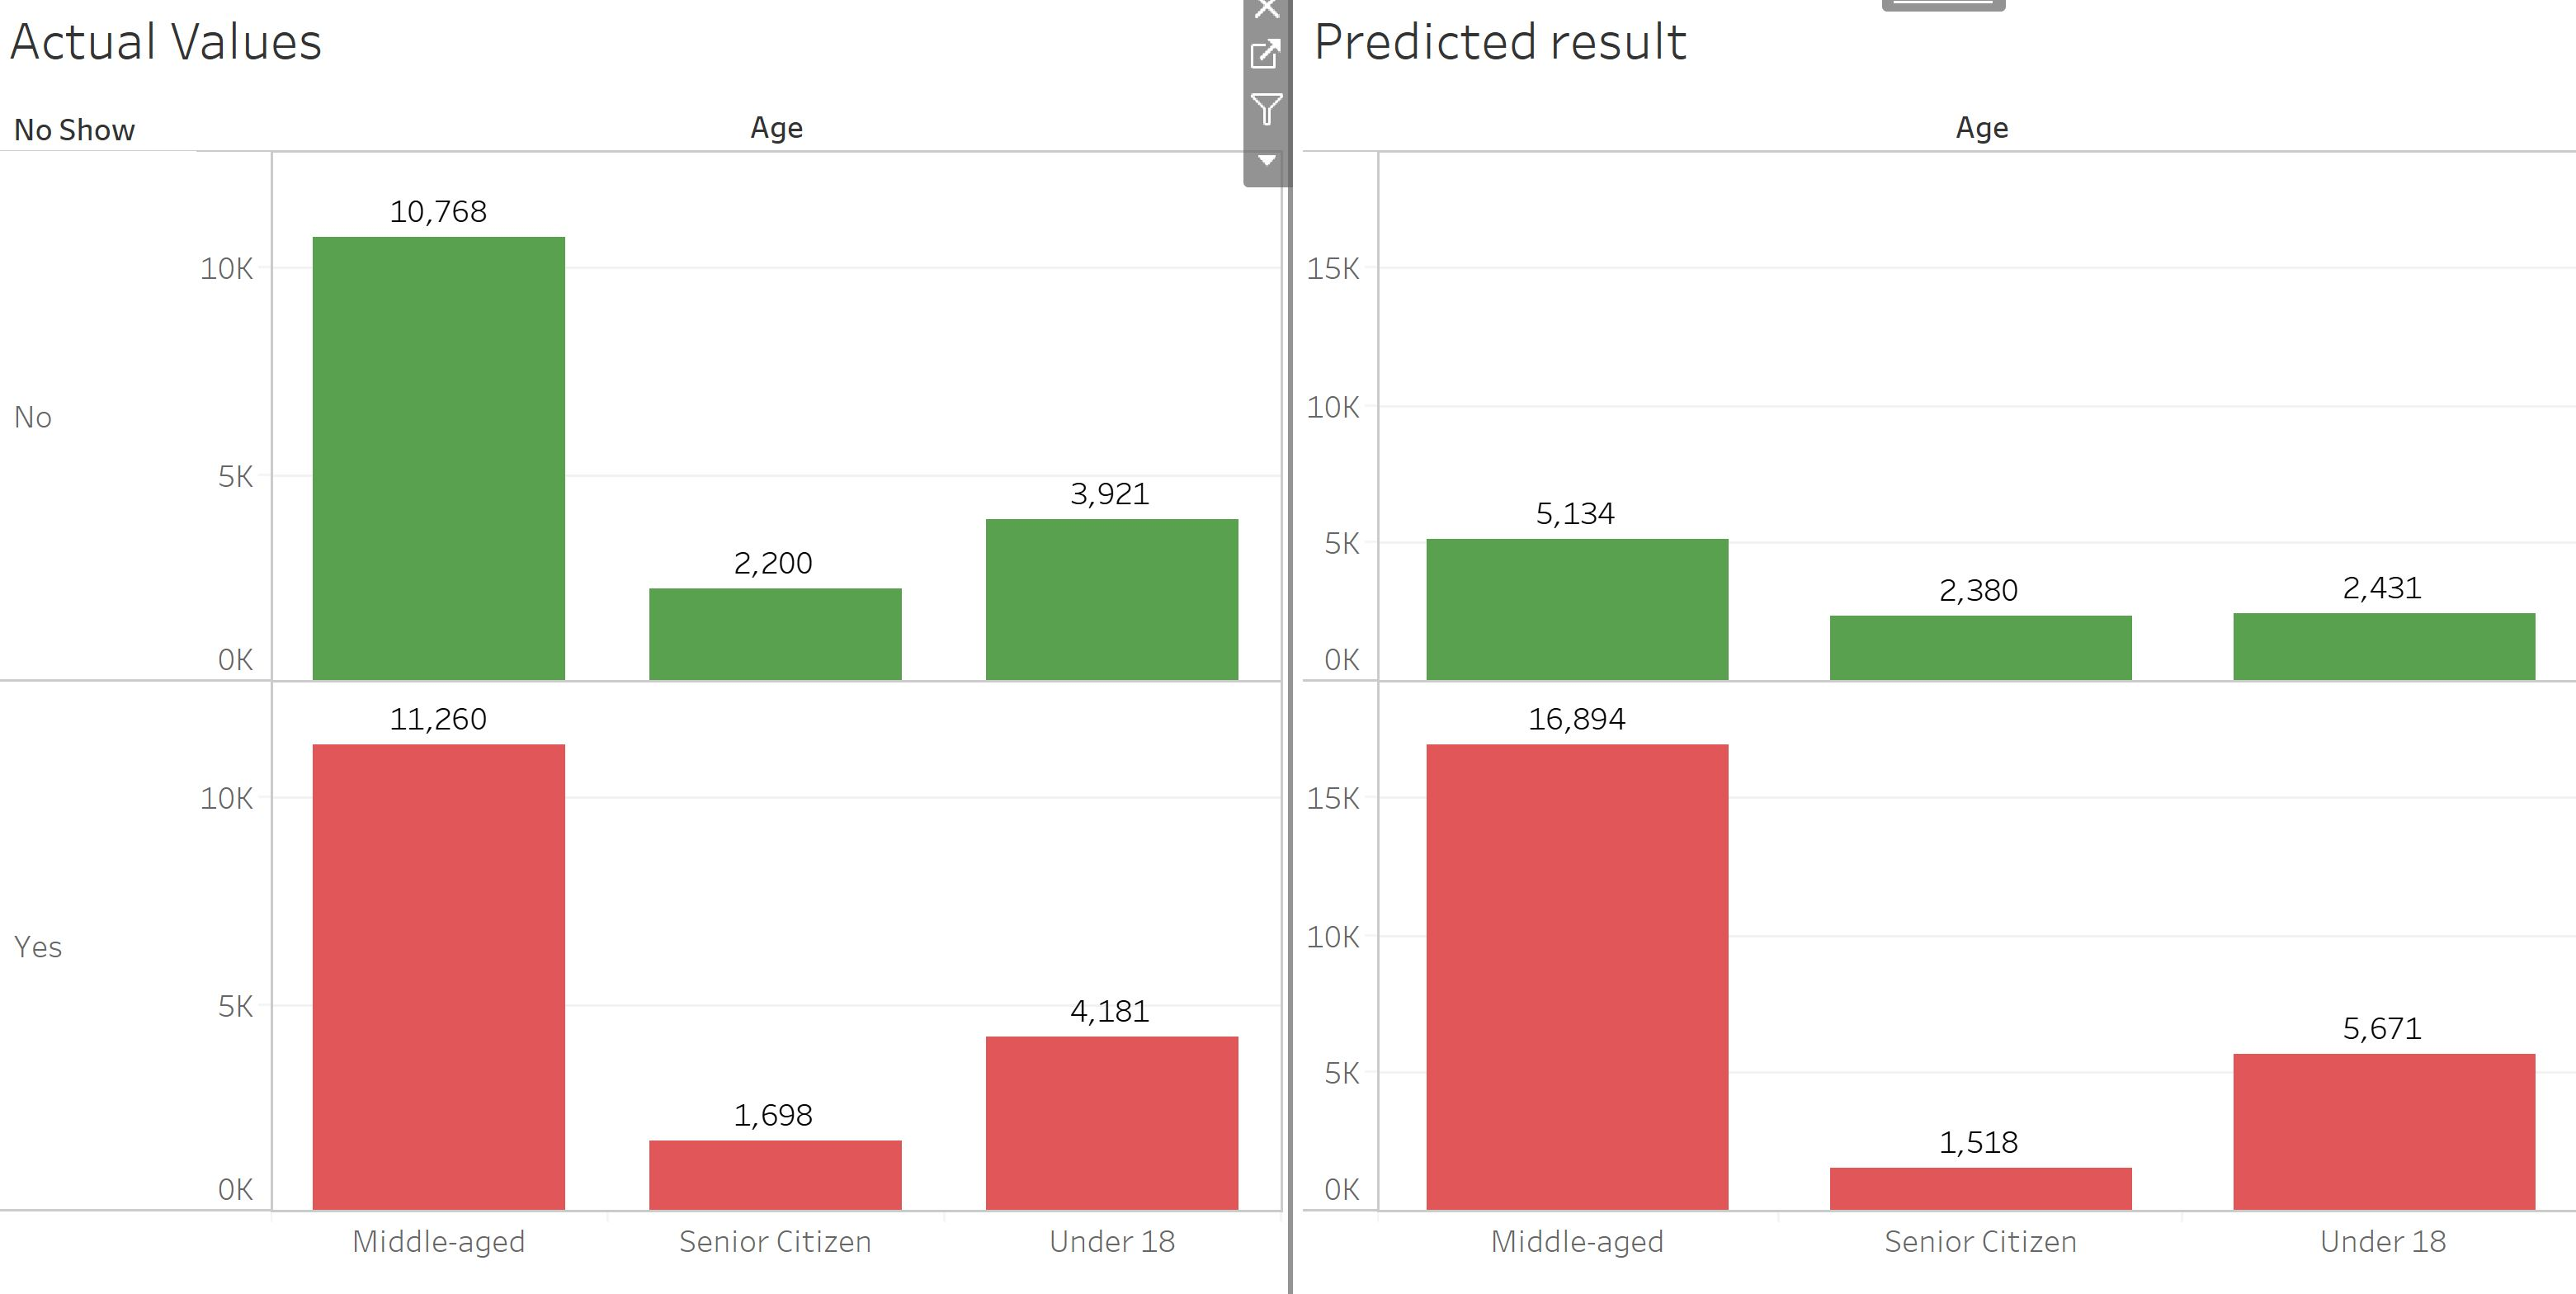

The dashboard page shown, as its layout file describes it:
{"tool":"tableau","page":{"name":"age dashoboard","canvas":[1000,1000],"units":"permille","ordinal":1},"visuals":[{"type":"worksheet","title":"age_nohow","mark":"Bar","rows":["no_show","n0_show"],"cols":["age"],"box":[6.9,13.5,493.1,973]},{"type":"worksheet","title":"age_pred","mark":"Automatic","rows":["predicted","pred"],"cols":["age"],"box":[500,13.5,493.1,973]}]}

Visuals, with their boxes on the dashboard's canvas, which has no fixed pixel size, in thousandths of its width and height (x1, y1, x2, y2). These are canvas units, not pixel positions in the 2576x1294 screenshot, which may show the page scaled, cropped or inside an application window:
"age_nohow" worksheet (Bar marks): pyautogui.locateOnScreen(7, 14, 500, 986)
"age_pred" worksheet: pyautogui.locateOnScreen(500, 14, 993, 986)
